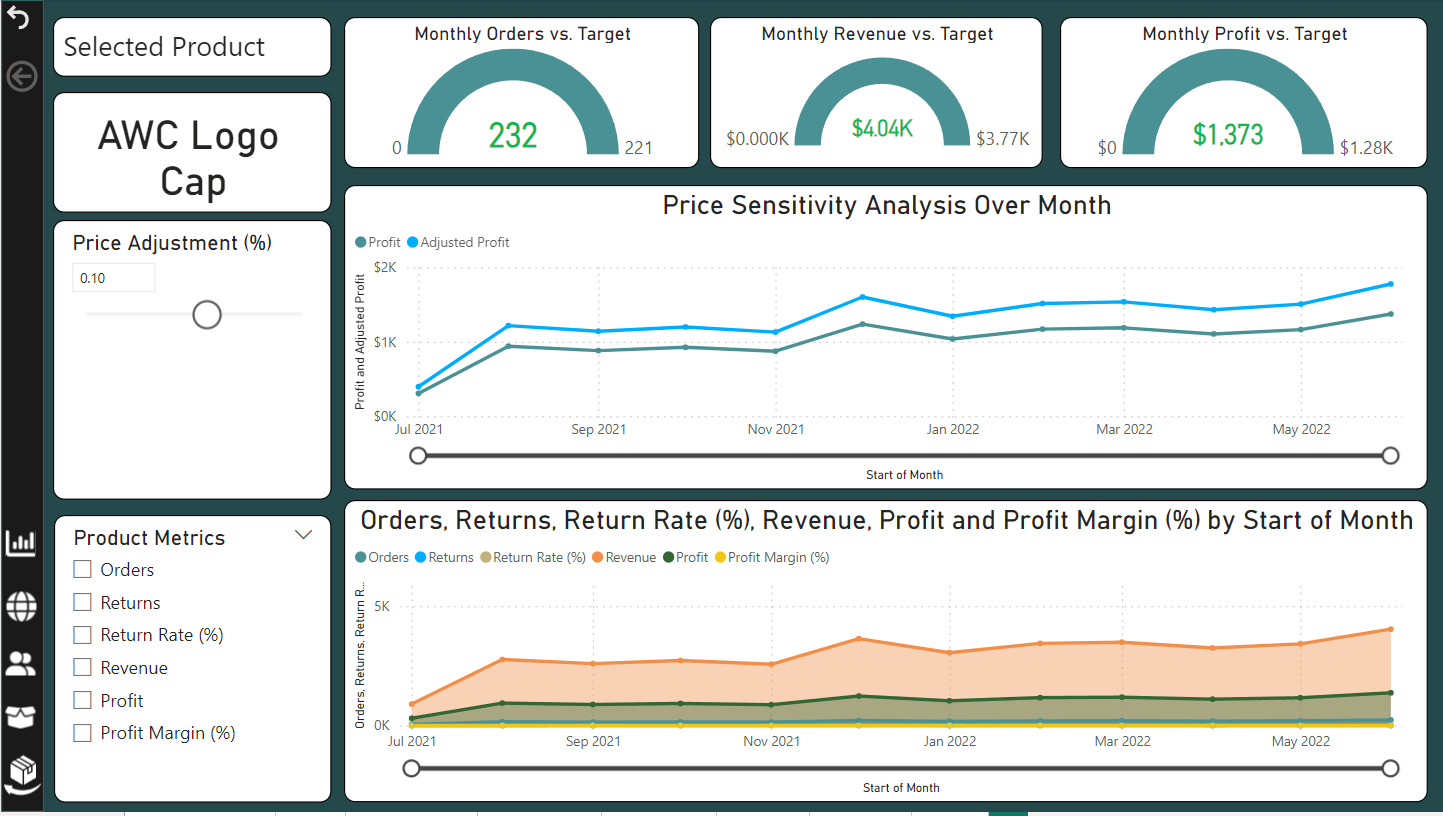

What the dashboard file says about the page in this screenshot:
{"tool":"powerbi","page":{"name":"Product Details","canvas":[1280,720],"ordinal":3},"visuals":[{"type":"gauge","title":"Monthly Orders vs. Target","fields":{"Y":["_Measures.Total Orders"],"MaxValue":["_Measures.Order Target"]},"box":[303.8,15,315,133.8],"z":0},{"type":"gauge","title":"Monthly Revenue vs. Target","fields":{"Y":["_Measures.Total Revenue"],"MaxValue":["_Measures.Target Revenue"]},"box":[628.8,15,295,133.8],"z":1000},{"type":"gauge","title":"Monthly Profit vs. Target","fields":{"Y":["_Measures.Profit"],"MaxValue":["_Measures.Target Profit"]},"box":[938.8,15,326.2,133.8],"z":2000},{"type":"slicer","fields":{"Values":["Product_Metrics.Product_Metrics"]},"box":[47.3,456.4,246.4,254.5],"z":3000},{"type":"areaChart","fields":{"Y":["_Measures.Total Orders","_Measures.Quantity Returned","_Measures.Return Rate","_Measures.Total Revenue","_Measures.Profit","_Measures.Profit Margin"],"Category":["Calendar Lookup.Start of Month"]},"box":[303.8,443.8,961.2,267.5],"z":4000},{"type":"slicer","fields":{"Values":["Price Adjustment (%).Price Adjustment (%)"]},"box":[46.4,195.5,247.3,248.2],"z":5000},{"type":"lineChart","title":"Price Sensitivity Analysis Over Month ","fields":{"Category":["Calendar Lookup.Start of Month"],"Y":["_Measures.Profit","_Measures.Adjusted Profit"]},"box":[303.8,163.8,961.2,270],"z":6000},{"type":"card","fields":{"Values":["Min(Product Lookup.Product Name)"]},"box":[46.4,81.8,247.3,107.3],"z":7000},{"type":"textbox","box":[46.4,15.5,247.3,52.7],"z":8000},{"type":"shape","box":[0,0,38.2,720],"z":9000},{"type":"actionButton","box":[0,0,30.1,30.1],"z":10000},{"type":"actionButton","box":[0,47.3,37.3,40.9],"z":11000},{"type":"actionButton","box":[0,464.6,37.2,34.6],"z":12000},{"type":"actionButton","box":[0.9,520.5,37.2,34.6],"z":13000},{"type":"actionButton","box":[0,571,37.2,34.6],"z":14000},{"type":"actionButton","box":[0,618.9,37.2,34.6],"z":15000},{"type":"actionButton","box":[0,663.3,38.1,47.9],"z":16000}]}

Visuals, with their boxes on the page's 1280x720 design canvas (x1, y1, x2, y2). These are canvas units, not pixel positions in the 1443x816 screenshot, which may show the page scaled, cropped or inside an application window:
"Monthly Orders vs. Target" gauge: BBox(304, 15, 619, 149)
"Monthly Revenue vs. Target" gauge: BBox(629, 15, 924, 149)
"Monthly Profit vs. Target" gauge: BBox(939, 15, 1265, 149)
slicer - Product_Metrics.Product_Metrics: BBox(47, 456, 294, 711)
areaChart - _Measures.Total Orders x _Measures.Quantity Returned: BBox(304, 444, 1265, 711)
slicer - Price Adjustment (%).Price Adjustment (%): BBox(46, 196, 294, 444)
"Price Sensitivity Analysis Over Month " lineChart: BBox(304, 164, 1265, 434)
card - Min(Product Lookup.Product Name): BBox(46, 82, 294, 189)
textbox: BBox(46, 16, 294, 68)
shape: BBox(0, 0, 38, 720)
actionButton: BBox(0, 0, 30, 30)
actionButton: BBox(0, 47, 37, 88)
actionButton: BBox(0, 465, 37, 499)
actionButton: BBox(1, 520, 38, 555)
actionButton: BBox(0, 571, 37, 606)
actionButton: BBox(0, 619, 37, 654)
actionButton: BBox(0, 663, 38, 711)
